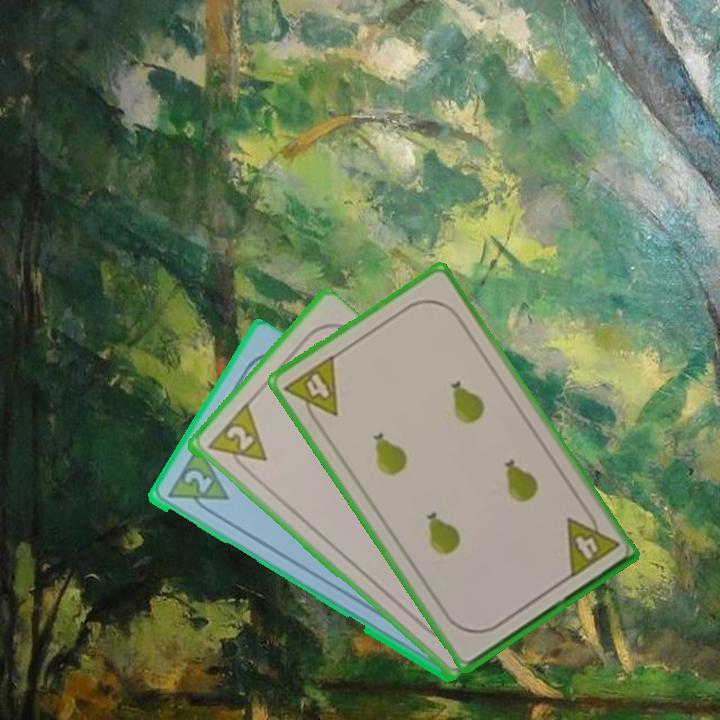2p: (203, 401, 270, 477), (179, 466, 215, 497)
4p: (280, 351, 341, 430), (562, 504, 622, 581)
